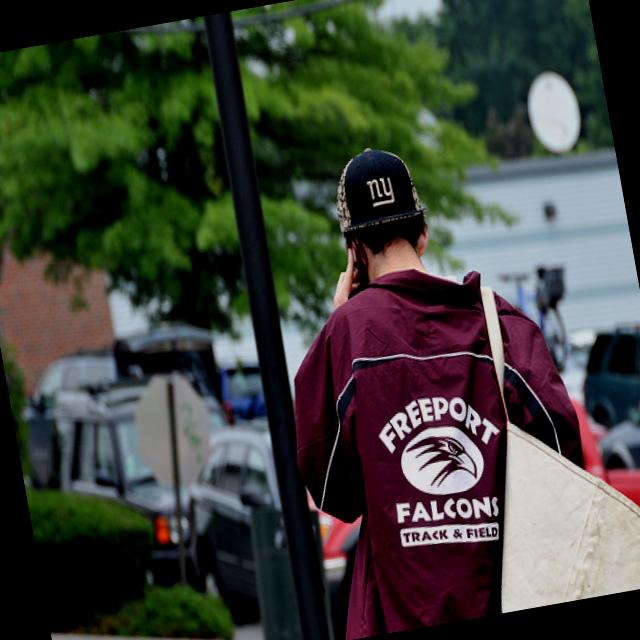Vehicle: (159, 397, 385, 640), (42, 366, 212, 616), (28, 372, 188, 600), (568, 384, 640, 595), (570, 321, 640, 433), (21, 342, 123, 417), (584, 372, 640, 477), (10, 394, 66, 491), (216, 360, 268, 426)
